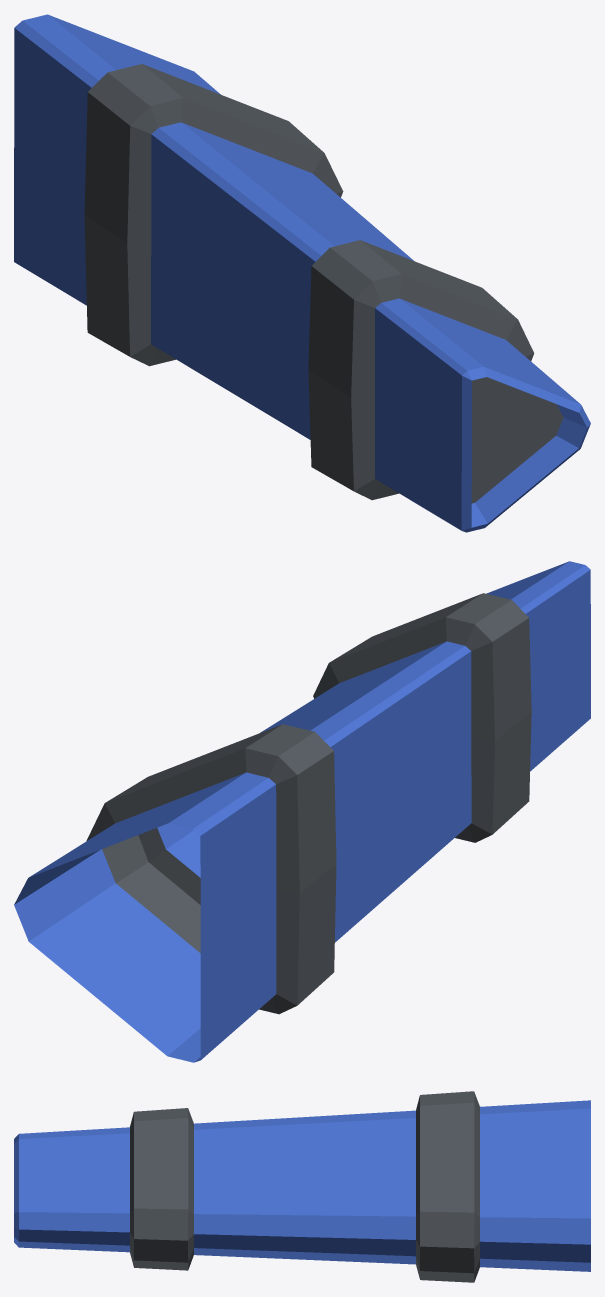
The model's file is Mothership_02_Thruster_Nozzle_Blue.fbx.
3 renders of one model, top to bottom at view 1: azimuth 30°, elevation 25°; view 2: azimuth 150°, elevation 25°; view 3: azimuth 270°, elevation 25°, orthographic. The views are drawn at different scales.
Visible parts, largest first — view 1: Mothership_02_Thruster_Nozzle_Blue; view 2: Mothership_02_Thruster_Nozzle_Blue; view 3: Mothership_02_Thruster_Nozzle_Blue.
Boxes of the visible parts, x1=… form: Mothership_02_Thruster_Nozzle_Blue: x1=14, y1=14, x2=590, y2=532; Mothership_02_Thruster_Nozzle_Blue: x1=14, y1=561, x2=590, y2=1062; Mothership_02_Thruster_Nozzle_Blue: x1=14, y1=1091, x2=590, y2=1282.
Size of the model in its own units: 238 by 274 by 796.
Materials: 1 (1 with a texture image).
